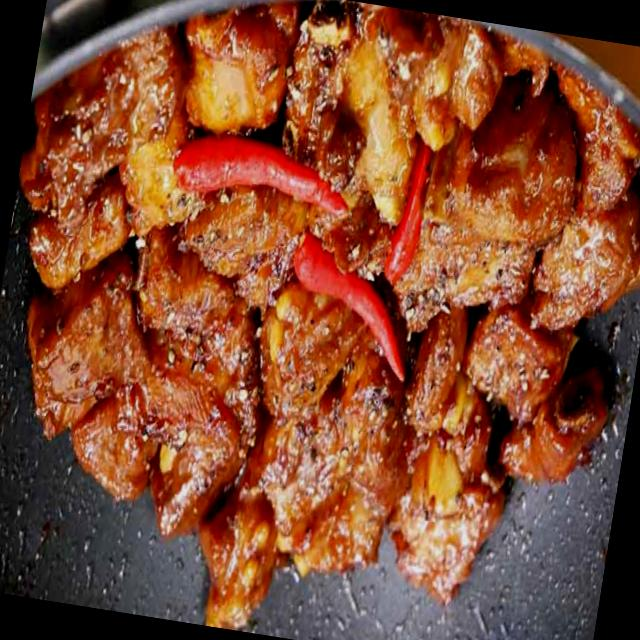suon xao: (20, 2, 640, 631)
